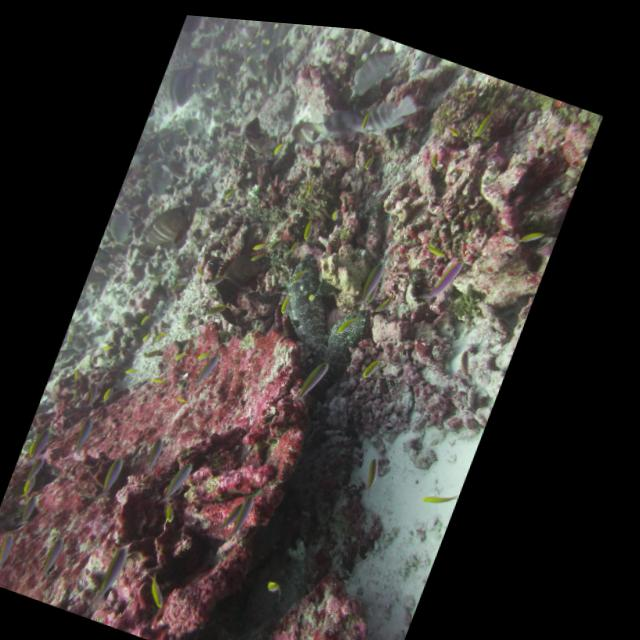Groupers: (264, 249, 353, 358), (302, 298, 378, 413)
